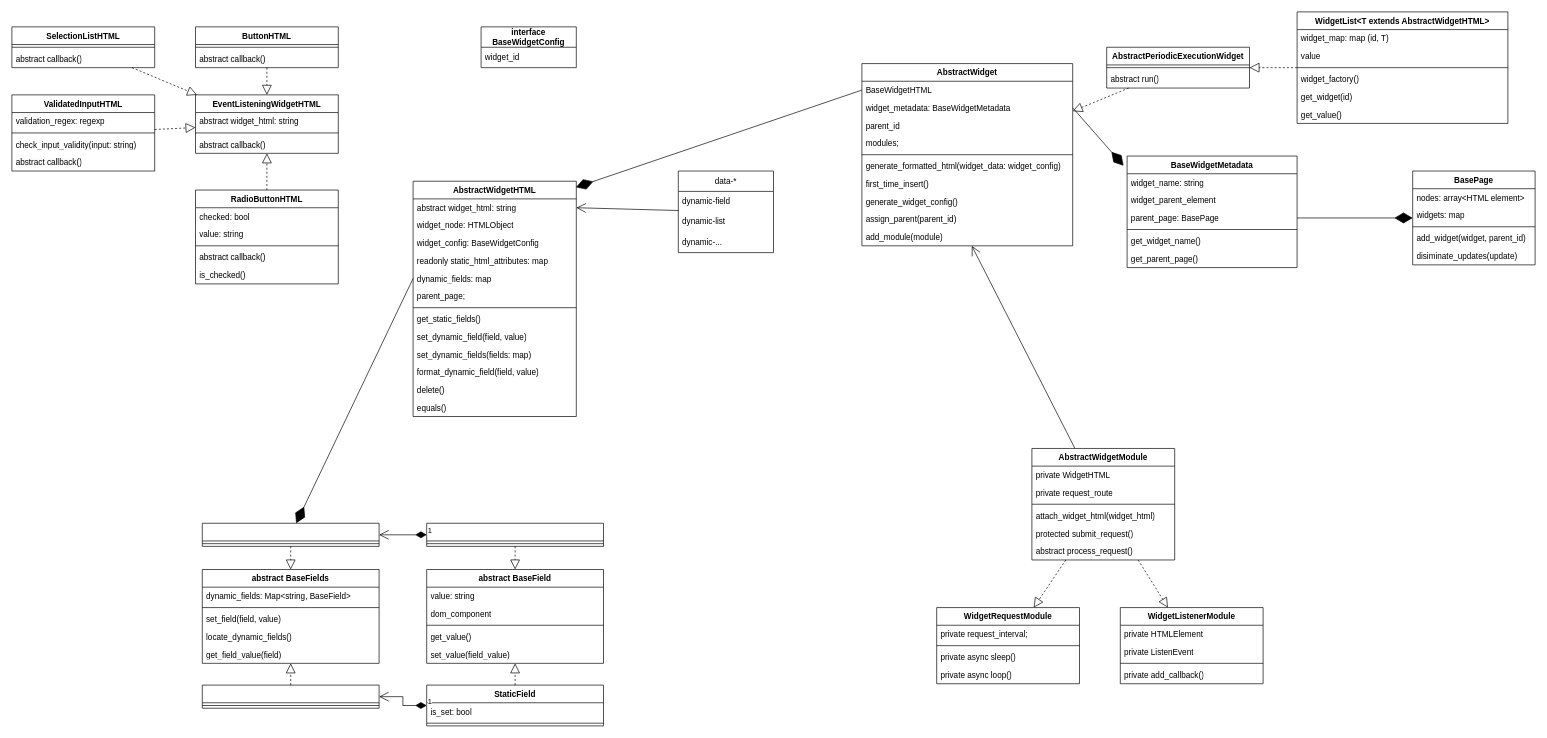
Some shapes in this 1547 by 738 pixel diagram are drawn without their labels. Each missing label, with the centre of its shape:
DynamicField: the point at 515,534
DynamicFields: the point at 290,534
StaticFields: the point at 290,696
